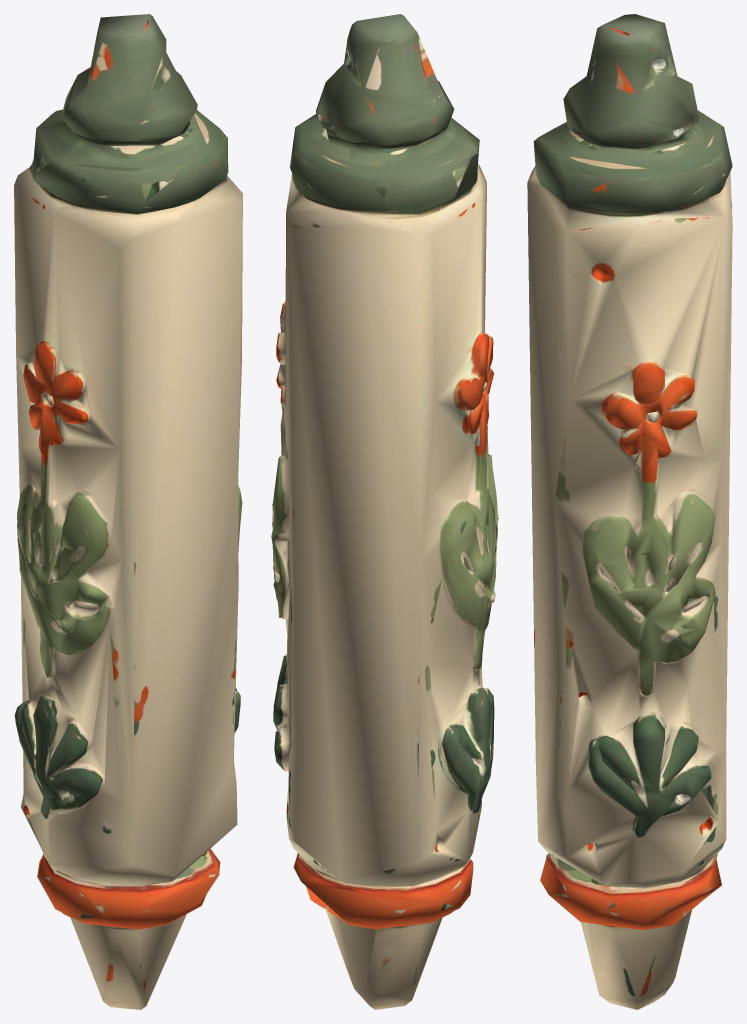
The model's file is marker.glb.
3 views of the same model, side by side, from view 1: azimuth 30°, elevation 25°; view 2: azimuth 150°, elevation 25°; view 3: azimuth 270°, elevation 25° (orthographic).
Parts seen in each view (by area): view 1: tripo_node_8d1a2667-995a-4836-9b84-5b51d16cc22c; view 2: tripo_node_8d1a2667-995a-4836-9b84-5b51d16cc22c; view 3: tripo_node_8d1a2667-995a-4836-9b84-5b51d16cc22c.
Part boxes in pixels (x1=…): tripo_node_8d1a2667-995a-4836-9b84-5b51d16cc22c: x1=14, y1=14, x2=242, y2=1009; tripo_node_8d1a2667-995a-4836-9b84-5b51d16cc22c: x1=271, y1=14, x2=498, y2=1009; tripo_node_8d1a2667-995a-4836-9b84-5b51d16cc22c: x1=527, y1=14, x2=732, y2=1009.
Size of the model in its own units: 0.0377 by 0.1796 by 0.0342.
Materials: 1 (1 with a texture image).
